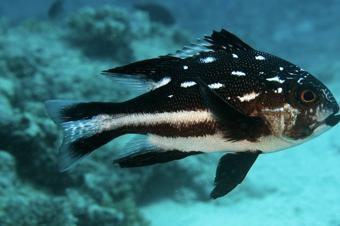Lutjanidae -Snappers-: (32, 22, 340, 206)
